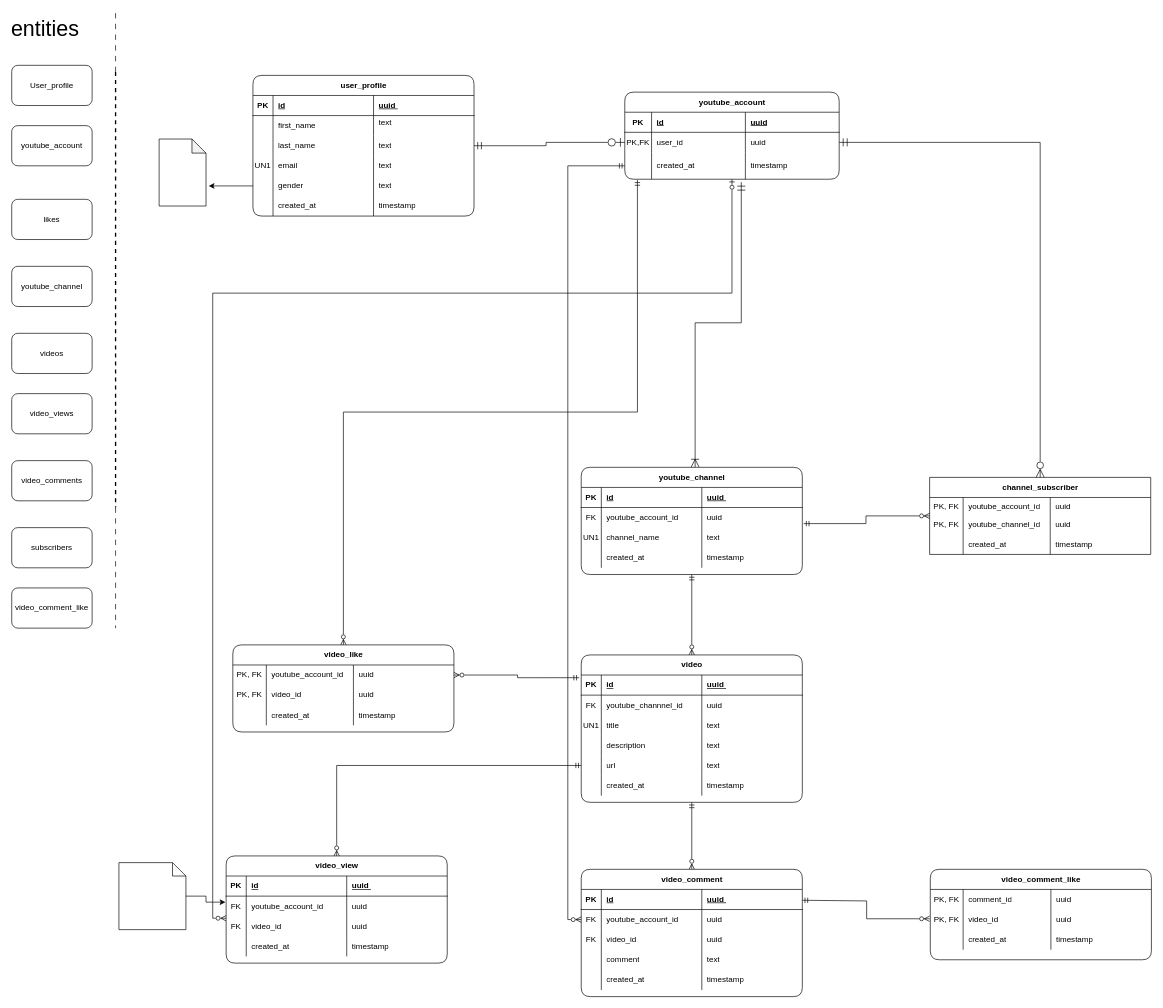
This 1163x1008 diagram has some shape labels left out. The shapes that lost their labels are listed below. From the top down, each one's centre as x and y in pixels, then its label:
At point 182,172: "MALE, FEMEALE".
At point 152,896: "can be null - because a user can watch a video without an account".
